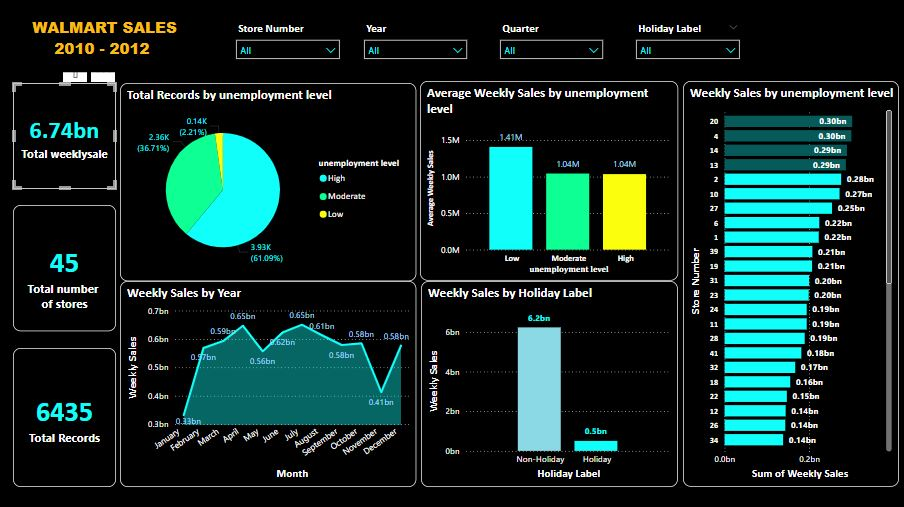

This screenshot's page, from the dashboard's own definition file:
{"tool":"powerbi","page":{"name":"Page 1","canvas":[1280,720],"ordinal":0},"visuals":[{"type":"clusteredColumnChart","title":"Average Weekly Sales by unemployment level","fields":{"Category":["walmart.unemployment_level"],"Y":["walmart.Avg_Weekly_Sales"]},"box":[595.3,116.2,365.7,283.5],"z":0},{"type":"card","fields":{"Values":["walmart.total weekly_sale"]},"box":[18.4,119.1,146,150.2],"z":1000},{"type":"slicer","fields":{"Values":["walmart.Store_Number"]},"box":[324.6,26.9,167.2,76.5],"z":2000},{"type":"pieChart","title":"Total Records by unemployment level","fields":{"Y":["walmart.Row_Count"],"Category":["walmart.unemployment_level"]},"box":[170.1,119.1,419.5,280.6],"z":3000},{"type":"card","fields":{"Values":["Count(walmart.Store_Number)"]},"box":[18.4,292,146,178.6],"z":4000},{"type":"card","fields":{"Values":["walmart.Row_Count"]},"box":[18.4,494.6,146,197],"z":5000},{"type":"clusteredColumnChart","title":" Weekly Sales by Holiday Label","fields":{"Y":["Sum(walmart.Weekly_Sales)"],"Category":["walmart.Holiday_Label"]},"box":[596.7,399.7,364.3,292],"z":6000},{"type":"lineChart","title":"Weekly Sales by Year","fields":{"Y":["Sum(walmart.Weekly_Sales)"],"Category":["walmart.Date.Variation.Date Hierarchy.Month"]},"box":[170.1,399.7,419.5,292],"z":7000},{"type":"slicer","fields":{"Values":["walmart.Holiday_Label"]},"box":[891.5,26.9,167.2,78],"z":8000},{"type":"textbox","box":[18.4,19.8,259.4,83.6],"z":9000},{"type":"slicer","fields":{"Values":["walmart.Date.Variation.Date Hierarchy.Quarter"]},"box":[698.7,26.9,165.8,76.5],"z":10000},{"type":"slicer","fields":{"Values":["walmart.Date.Variation.Date Hierarchy.Year"]},"box":[506,26.9,165.8,76.5],"z":11000},{"type":"clusteredBarChart","title":"Weekly Sales by unemployment level","fields":{"Category":["walmart.Store_Number"],"Y":["Sum(walmart.Weekly_Sales)"]},"box":[968,116.2,306.1,575.4],"z":12000}]}

Visuals, with their boxes in screenshot pixels (x1, y1, x2, y2), scaled from the page's 1280x720 canvas onto the 904x507 screenshot:
"Average Weekly Sales by unemployment level" clusteredColumnChart: (420,82,679,281)
card - walmart.total weekly_sale: (13,84,116,190)
slicer - walmart.Store_Number: (229,19,347,73)
"Total Records by unemployment level" pieChart: (120,84,416,281)
card - Count(walmart.Store_Number): (13,206,116,331)
card - walmart.Row_Count: (13,348,116,487)
" Weekly Sales by Holiday Label" clusteredColumnChart: (421,281,679,487)
"Weekly Sales by Year" lineChart: (120,281,416,487)
slicer - walmart.Holiday_Label: (630,19,748,74)
textbox: (13,14,196,73)
slicer - walmart.Date.Variation.Date Hierarchy.Quarter: (493,19,611,73)
slicer - walmart.Date.Variation.Date Hierarchy.Year: (357,19,474,73)
"Weekly Sales by unemployment level" clusteredBarChart: (684,82,900,487)
